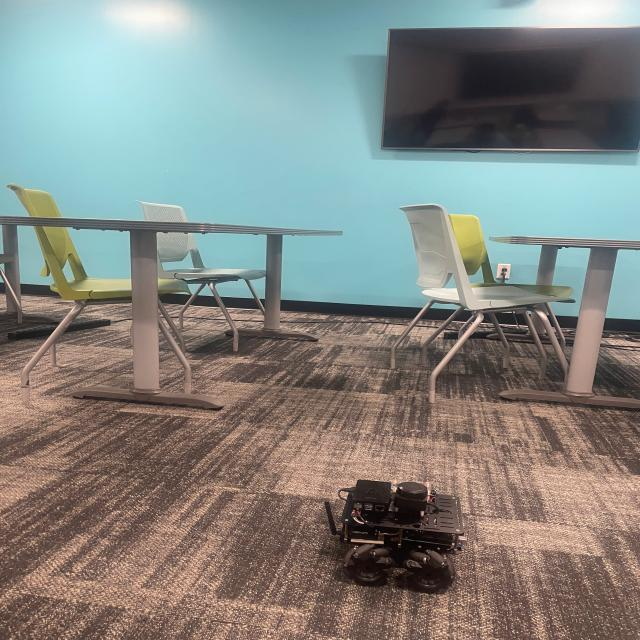ArduinoCar3: (326, 472, 463, 599)
